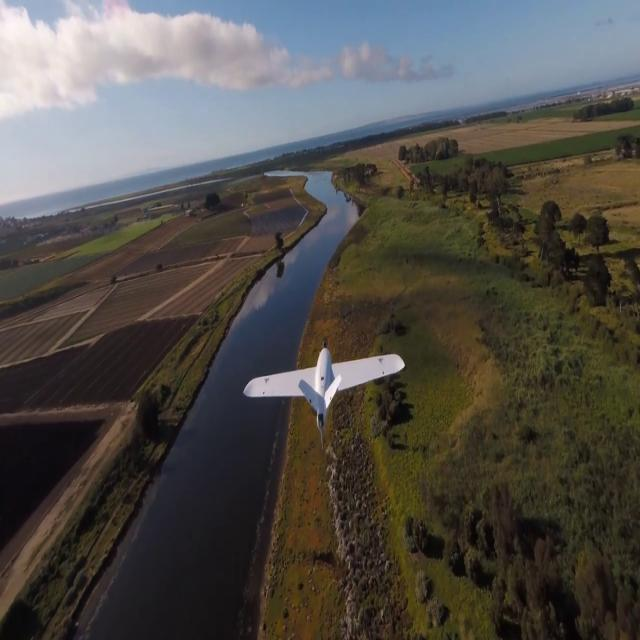iha: (238, 376, 408, 393)
